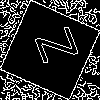Z: (25, 25, 79, 70)
